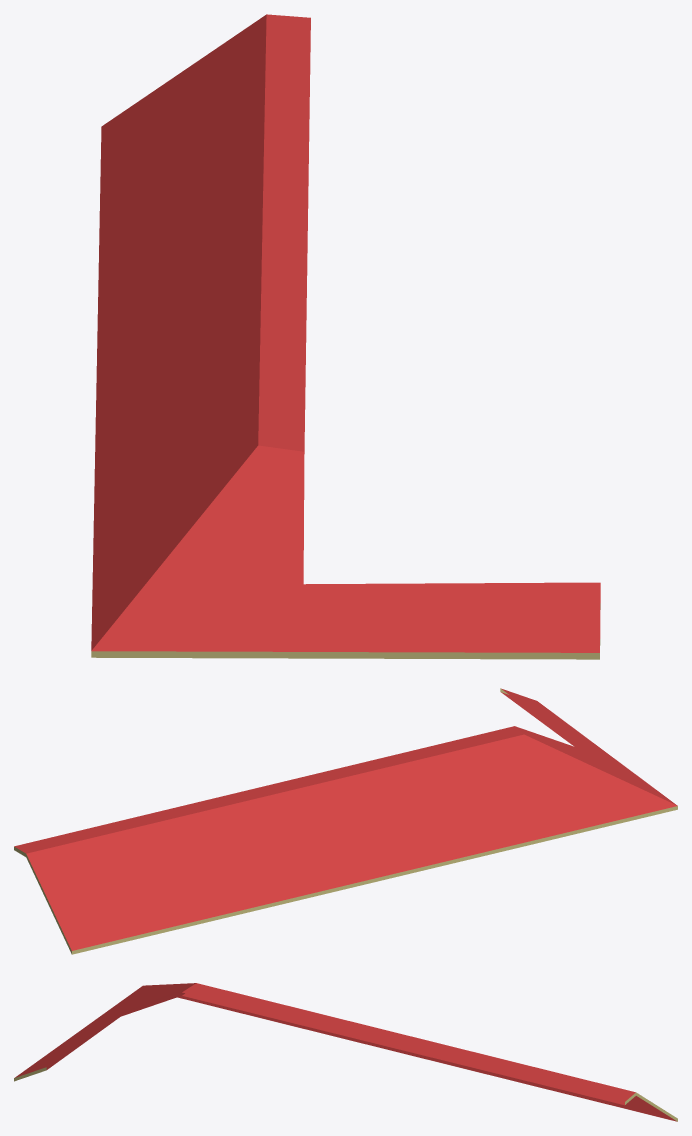
3 views of the same model, one above another, from view 1: azimuth 30°, elevation 25°; view 2: azimuth 150°, elevation 25°; view 3: azimuth 270°, elevation 25° (orthographic). The views are drawn at different scales.
Bounding box in the file's own units: 11.1 × 18.2 × 1.81.
